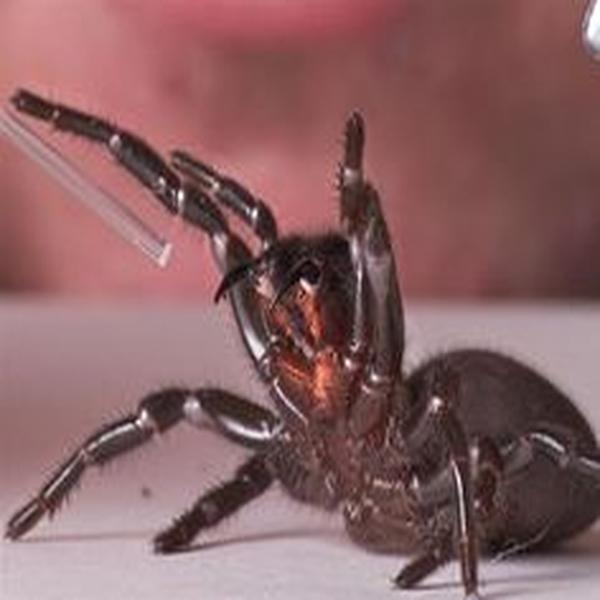Funnel Web Spider: (22, 92, 595, 580)
